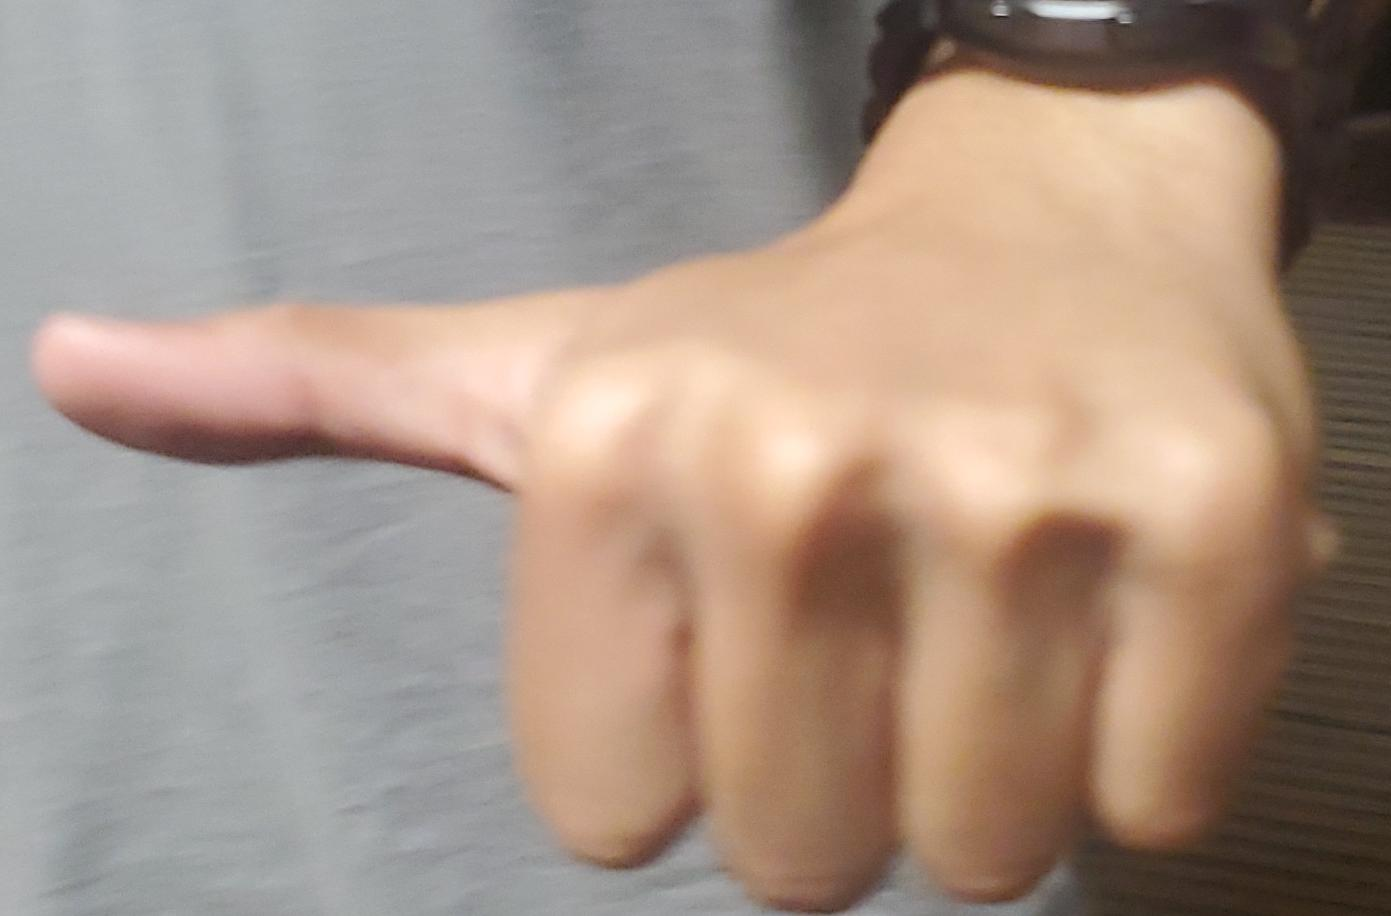right: (0, 1, 1391, 916)
